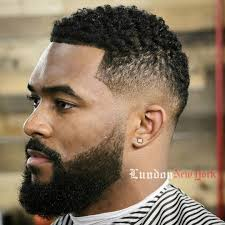black_male: (13, 24, 180, 197)
